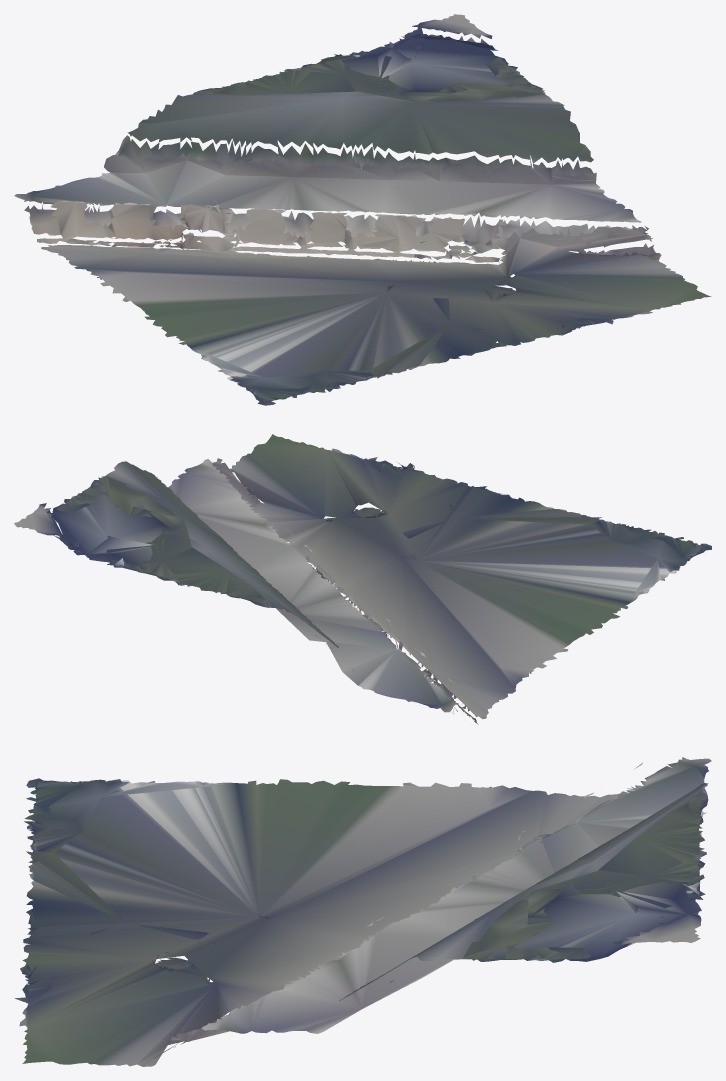
3 renders of one model, top to bottom at view 1: azimuth 30°, elevation 25°; view 2: azimuth 150°, elevation 25°; view 3: azimuth 270°, elevation 25°, orthographic. The views are drawn at different scales.
Size of the model in its own units: 104 by 24.49 by 105.
